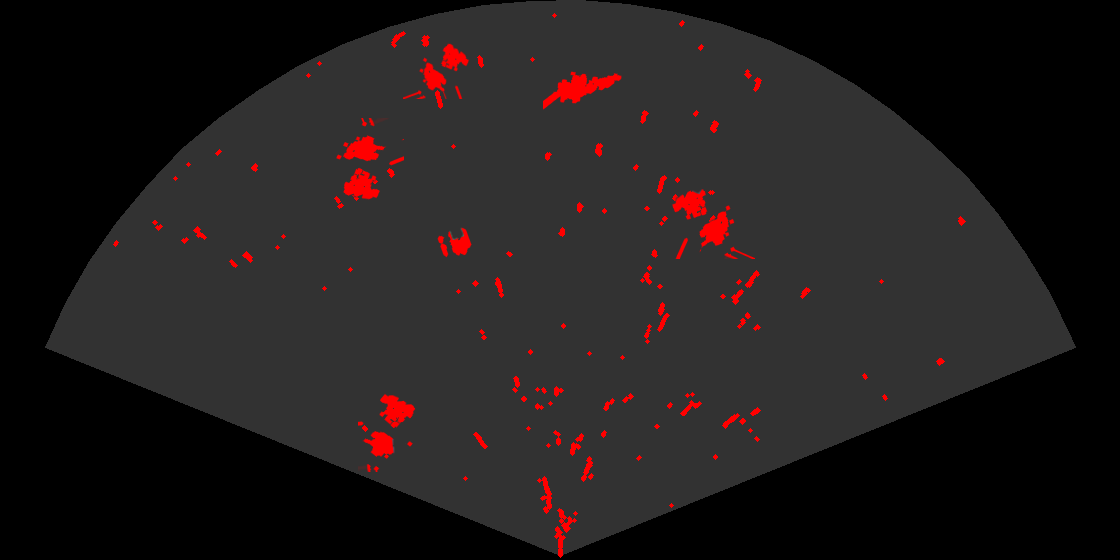ball: (436, 226, 473, 259)
cage: (671, 188, 755, 259), (335, 118, 404, 201), (358, 392, 417, 472), (403, 42, 471, 99)
frogman: (543, 70, 623, 111)
